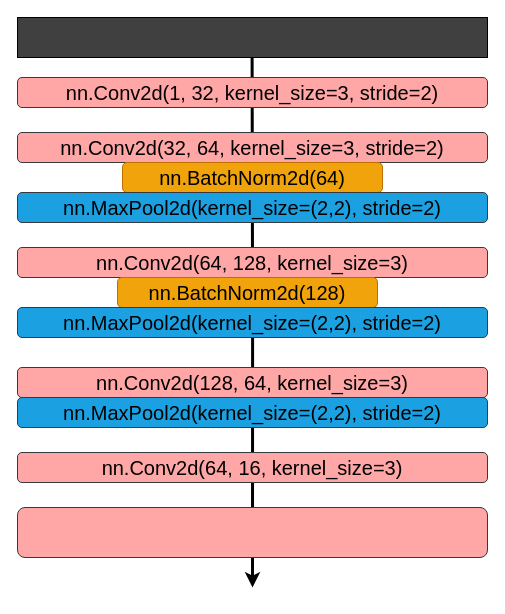
This 505x614 diagram has some shape labels left out. The shapes that lost their labels are listed below. From the top down, each one's centre as x and y in pixels, then its label:
At point 252,37: "INPUT IMAGE shape = [D,D]".
At point 252,532: "nn.Conv2d(16, 1, kernel_size=F) {F=(((D-19)//32)-3) for FCNN dimensions}".
